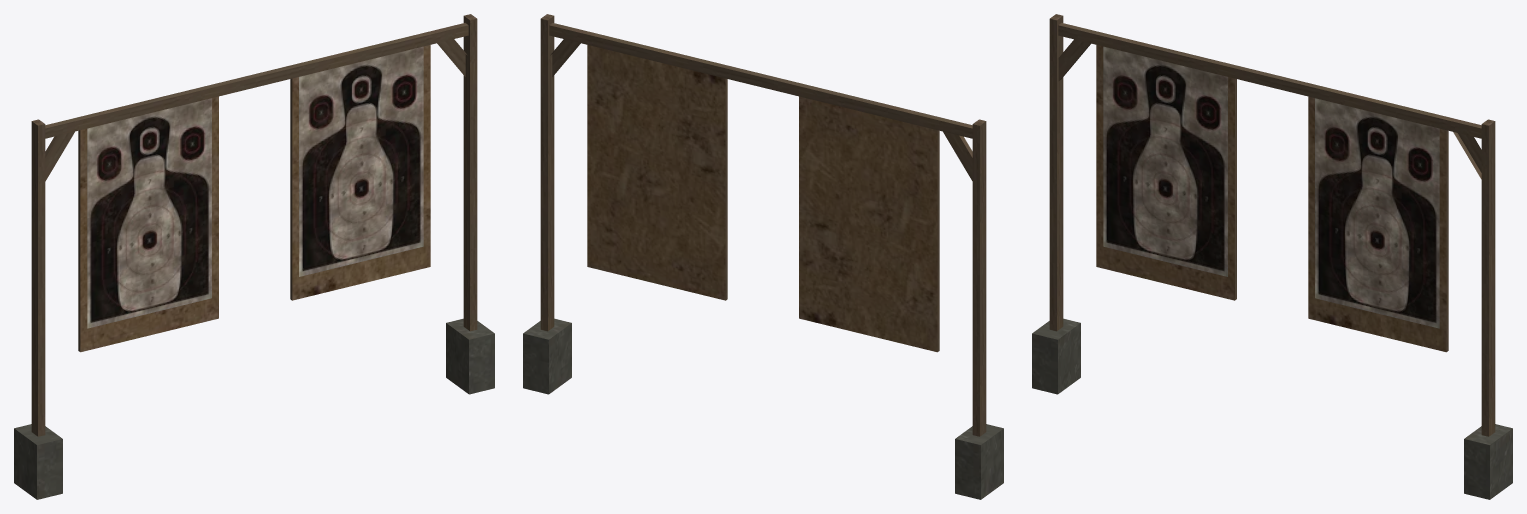
File: range-target.lod0.glb
3 renders of one model, left to right at view 1: azimuth 30°, elevation 25°; view 2: azimuth 150°, elevation 25°; view 3: azimuth 330°, elevation 25°, orthographic.
Visible parts, largest first — view 1: Object_8; view 2: Object_8; view 3: Object_8.
Part boxes in pixels (box(x1,y1,x2,y2)): Object_8: box(14, 14, 494, 499); Object_8: box(523, 14, 1003, 499); Object_8: box(1032, 14, 1512, 499).
Size of the model in its own units: 2.36 by 1.8 by 0.2058.
Materials: 1 (1 with a texture image).
